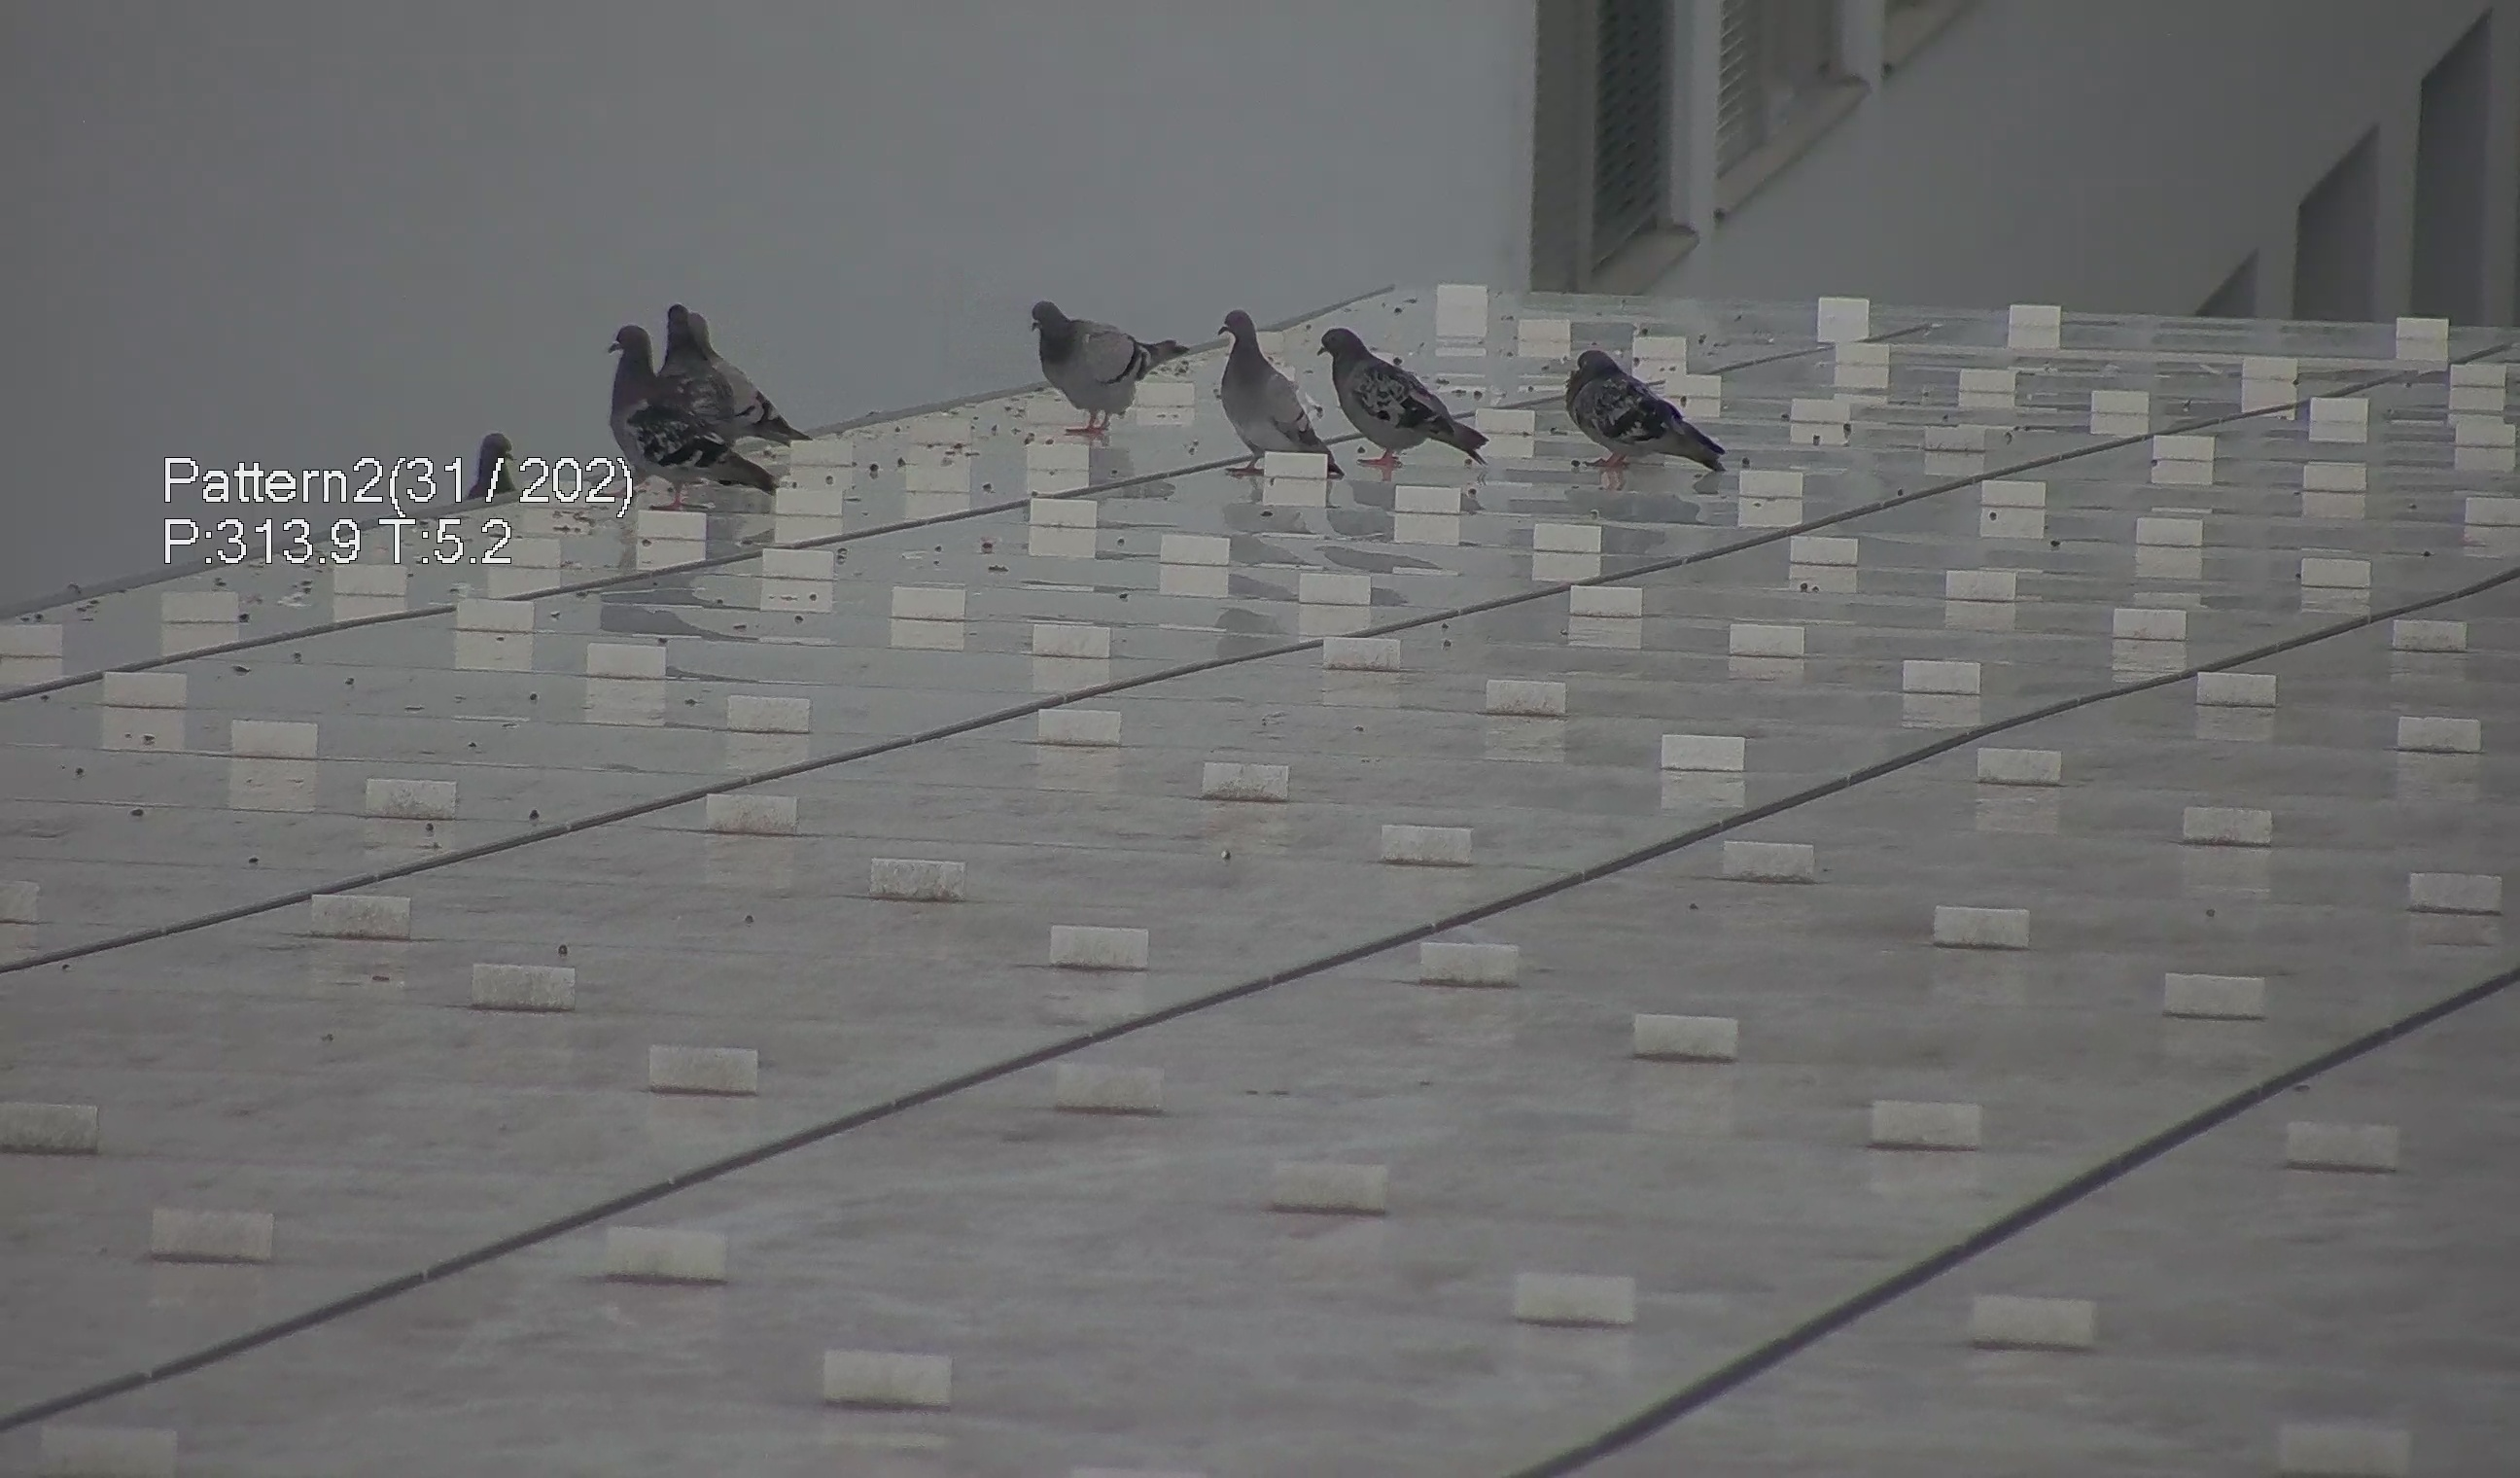Pigeon: (589, 289, 781, 493), (1556, 327, 1741, 486), (1319, 317, 1504, 473), (654, 290, 805, 456), (1199, 299, 1329, 473), (1016, 285, 1180, 422), (461, 428, 538, 507)
